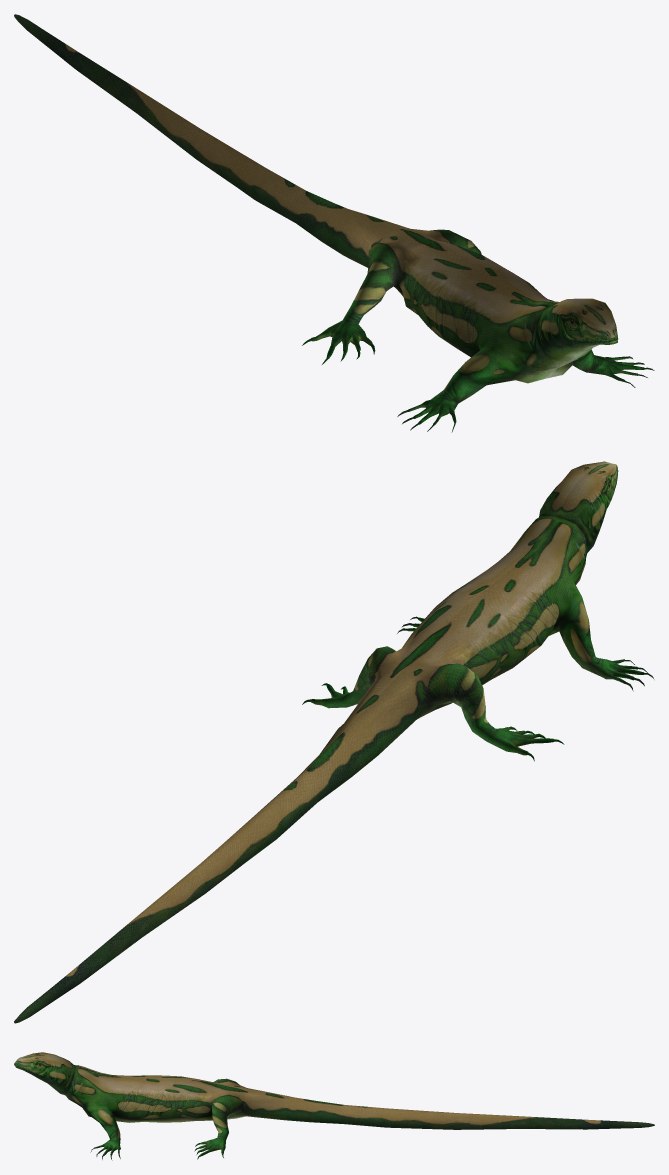
Rendered from xiyi.obj.
The picture shows the model from 3 angles, top to bottom: view 1: azimuth 30°, elevation 25°; view 2: azimuth 150°, elevation 25°; view 3: azimuth 270°, elevation 25°; orthographic projection. The views are drawn at different scales.
Parts seen in each view (by area): view 1: xiyi; view 2: xiyi; view 3: xiyi.
Boxes of the visible parts, box(x1,y1,x2,y2) form: xiyi: box(14, 14, 654, 432); xiyi: box(14, 461, 654, 1023); xiyi: box(14, 1052, 654, 1160).
Bounding box in the file's own units: 24.59 × 13.25 × 104.
Materials: 1 (1 with a texture image).
